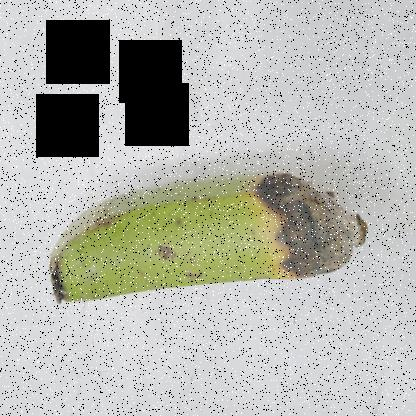unripe: (44, 149, 256, 309)
